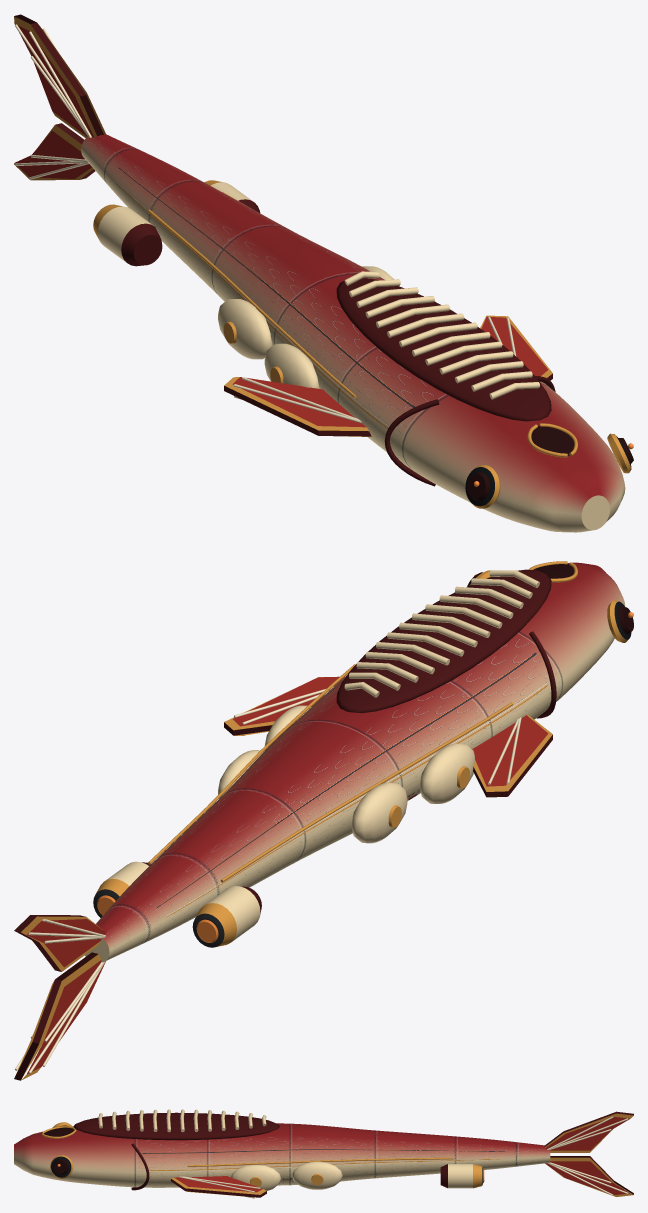
The picture shows the model from 3 angles, top to bottom: view 1: azimuth 30°, elevation 25°; view 2: azimuth 150°, elevation 25°; view 3: azimuth 270°, elevation 25°; orthographic projection. The views are drawn at different scales.
Parts seen in each view (by area): view 1: remora_hull; view 2: remora_hull; view 3: remora_hull.
Part boxes in pixels (x1,y1,x2,y2): remora_hull: [14, 14, 633, 532]; remora_hull: [14, 561, 633, 1080]; remora_hull: [14, 1109, 633, 1198].
Size of the model in its own units: 18.16 by 9.53 by 64.
Materials: 1 (1 with a texture image).
